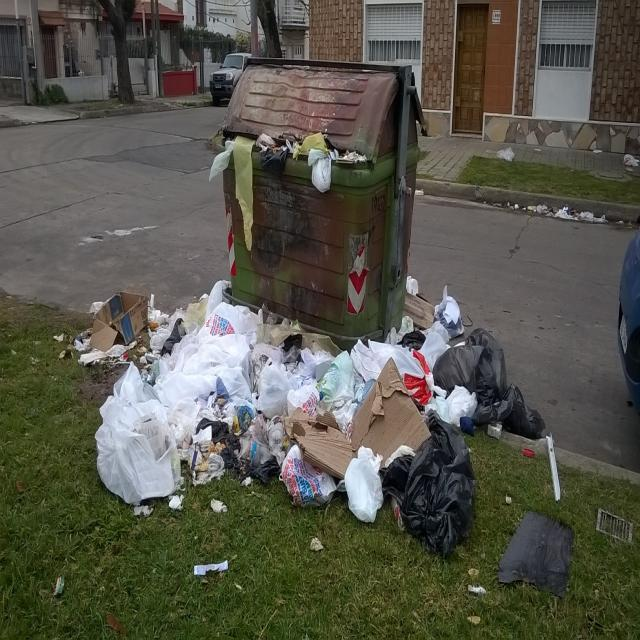garbage: (100, 282, 320, 500), (292, 341, 472, 551), (412, 295, 534, 431), (214, 146, 360, 169)
